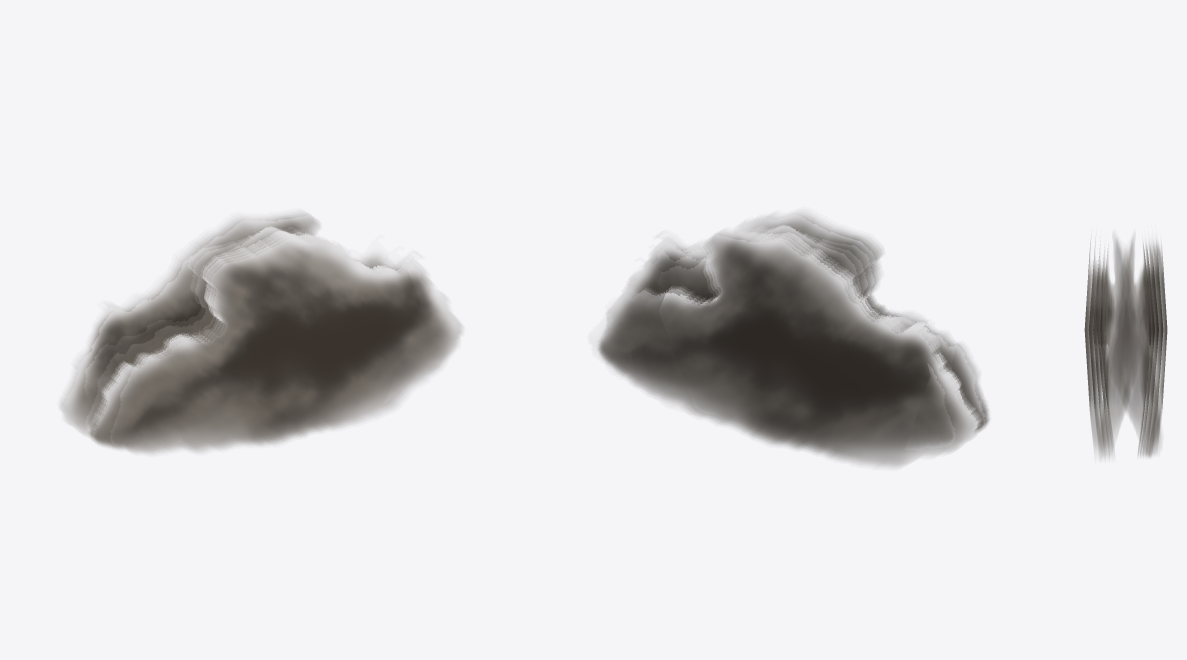
File: model-dark.glb
3 renders of one model, left to right at view 1: azimuth 30°, elevation 25°; view 2: azimuth 150°, elevation 25°; view 3: azimuth 270°, elevation 25°, orthographic. The views are drawn at different scales.
Visible parts, largest first — view 1: cloud-1.004, cloud-1.002, cloud-1.001, cloud-1; view 2: cloud-1.004, cloud-1.001, cloud-1, cloud-1.002; view 3: cloud-1.004, cloud-1.001, cloud-1.002.
Part boxes in pixels (x1,y1,x2,y2): cloud-1.004: (60,213,461,453); cloud-1.002: (107,241,440,379); cloud-1.001: (112,244,385,445); cloud-1: (88,253,399,427); cloud-1.004: (599,213,989,466); cloud-1.001: (602,241,986,411); cloud-1: (644,251,853,301); cloud-1.002: (666,243,953,443); cloud-1.004: (1084,241,1167,457); cloud-1.001: (1096,238,1160,446); cloud-1.002: (1101,238,1145,444).
Bounding box in the file's own units: 7.22 × 7.22 × 1.43.
12 materials, 12 textured.
